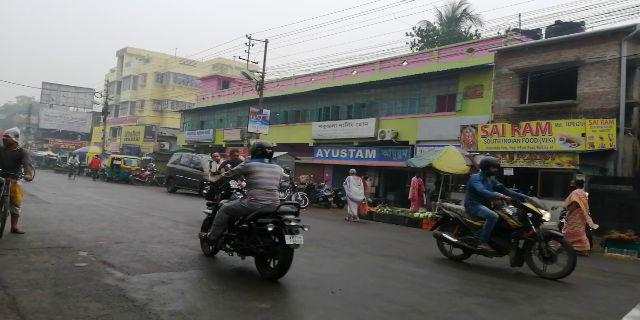Car: (165, 147, 203, 194)
Motorbike: (425, 157, 579, 281), (200, 146, 302, 279)
